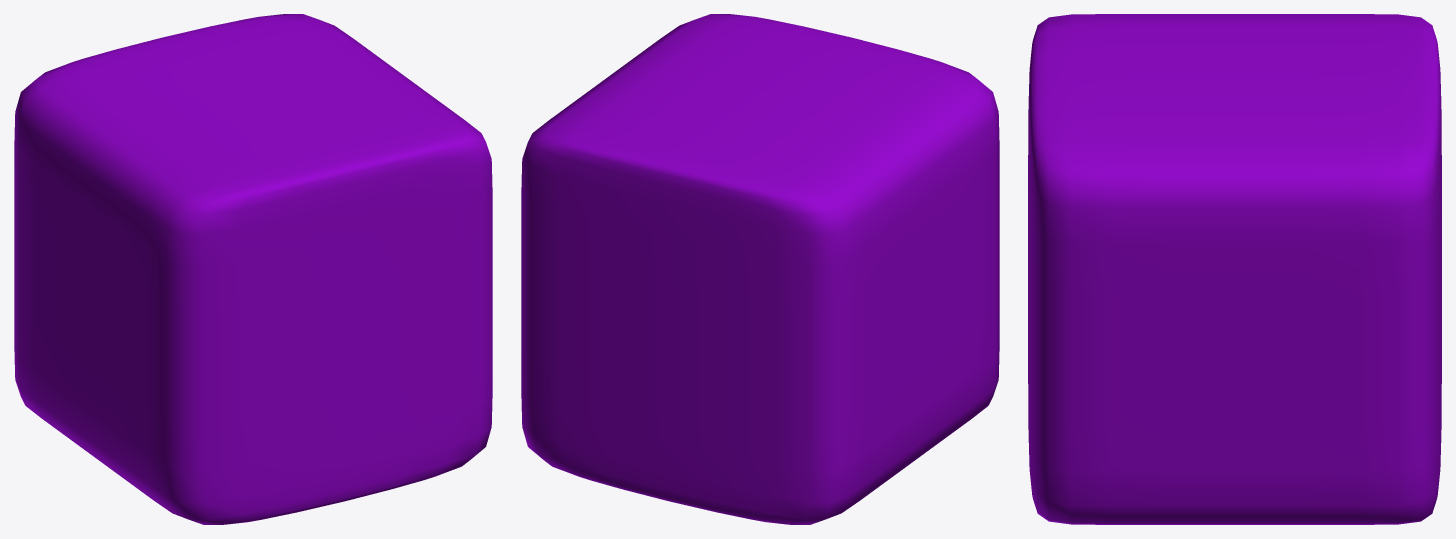
The picture shows the model from 3 angles, left to right: view 1: azimuth 30°, elevation 25°; view 2: azimuth 150°, elevation 25°; view 3: azimuth 270°, elevation 25°; orthographic projection. The views are drawn at different scales.
Visible parts, largest first — view 1: Cube; view 2: Cube; view 3: Cube.
Part boxes in pixels (<box>): Cube: <box>14,14,492,524</box>; Cube: <box>521,14,999,524</box>; Cube: <box>1028,14,1441,524</box>.
Bounding box in the file's own units: 2 × 1.99 × 1.99.
